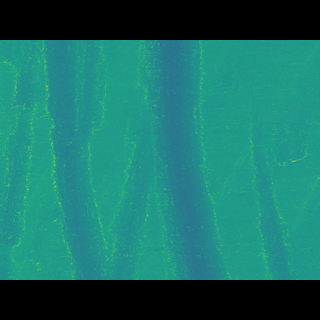Loch: (35, 69, 149, 250), (133, 70, 236, 250), (244, 133, 300, 251), (0, 69, 33, 251)
